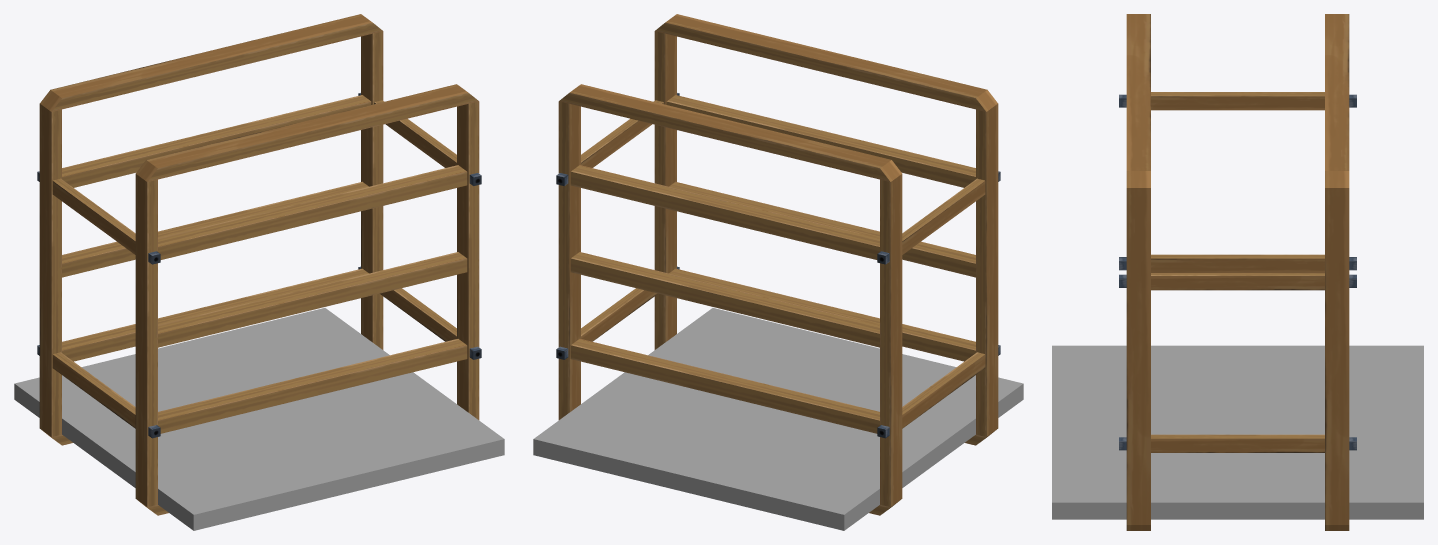
Rendered from GlassStacked1.fbx.
3 renders of one model, left to right at view 1: azimuth 30°, elevation 25°; view 2: azimuth 150°, elevation 25°; view 3: azimuth 270°, elevation 25°, orthographic. The views are drawn at different scales.
Parts seen in each view (by area): view 1: GlassStacked1; view 2: GlassStacked1; view 3: GlassStacked1.
Boxes of the visible parts, x1,y1,x2,y2 form: GlassStacked1: (14, 14, 504, 530); GlassStacked1: (533, 14, 1023, 530); GlassStacked1: (1052, 14, 1423, 530).
Bounding box in the file's own units: 100 × 100 × 93.64.
